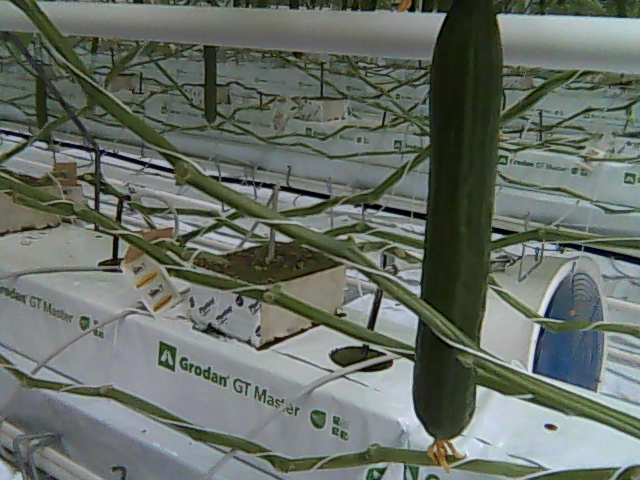concombre: (411, 1, 507, 473)
